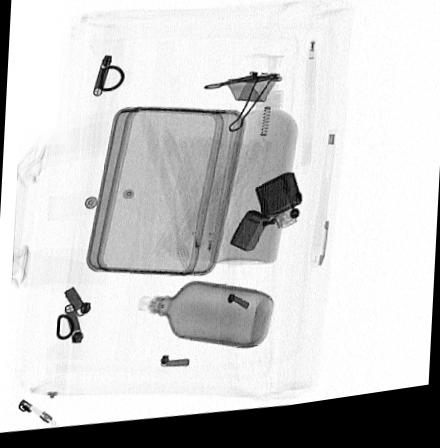Lighter: (227, 180, 301, 260)
